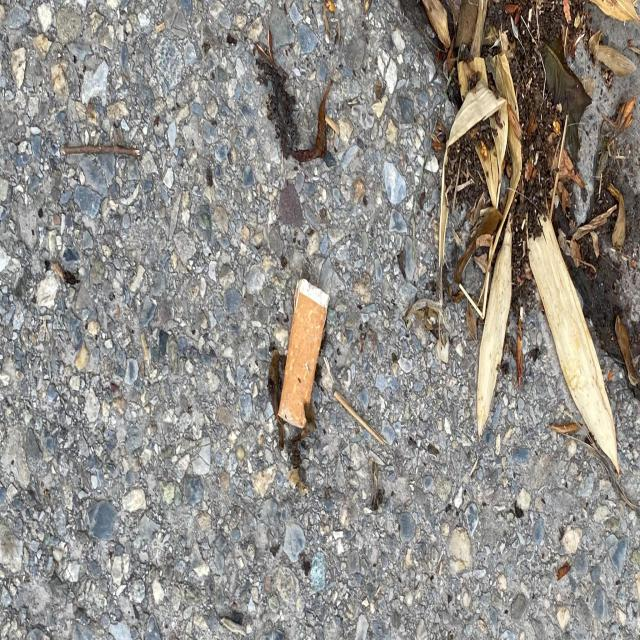other waste: (276, 275, 330, 432)
